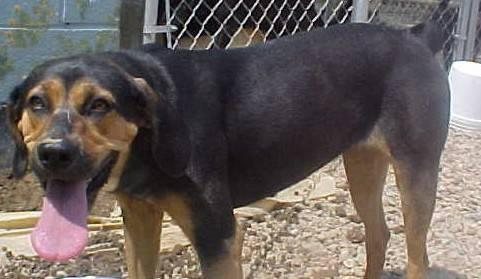dog: (5, 23, 449, 278)
